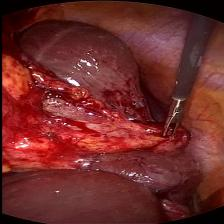Grasper: (154, 90, 194, 145)
